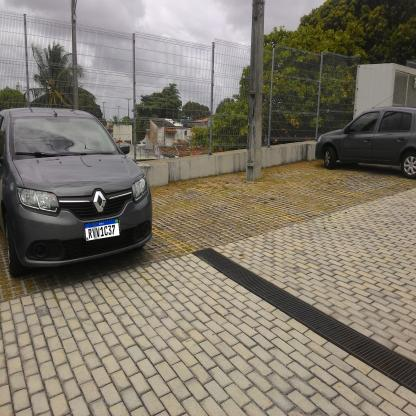PlacaM: (84, 218, 120, 242)
